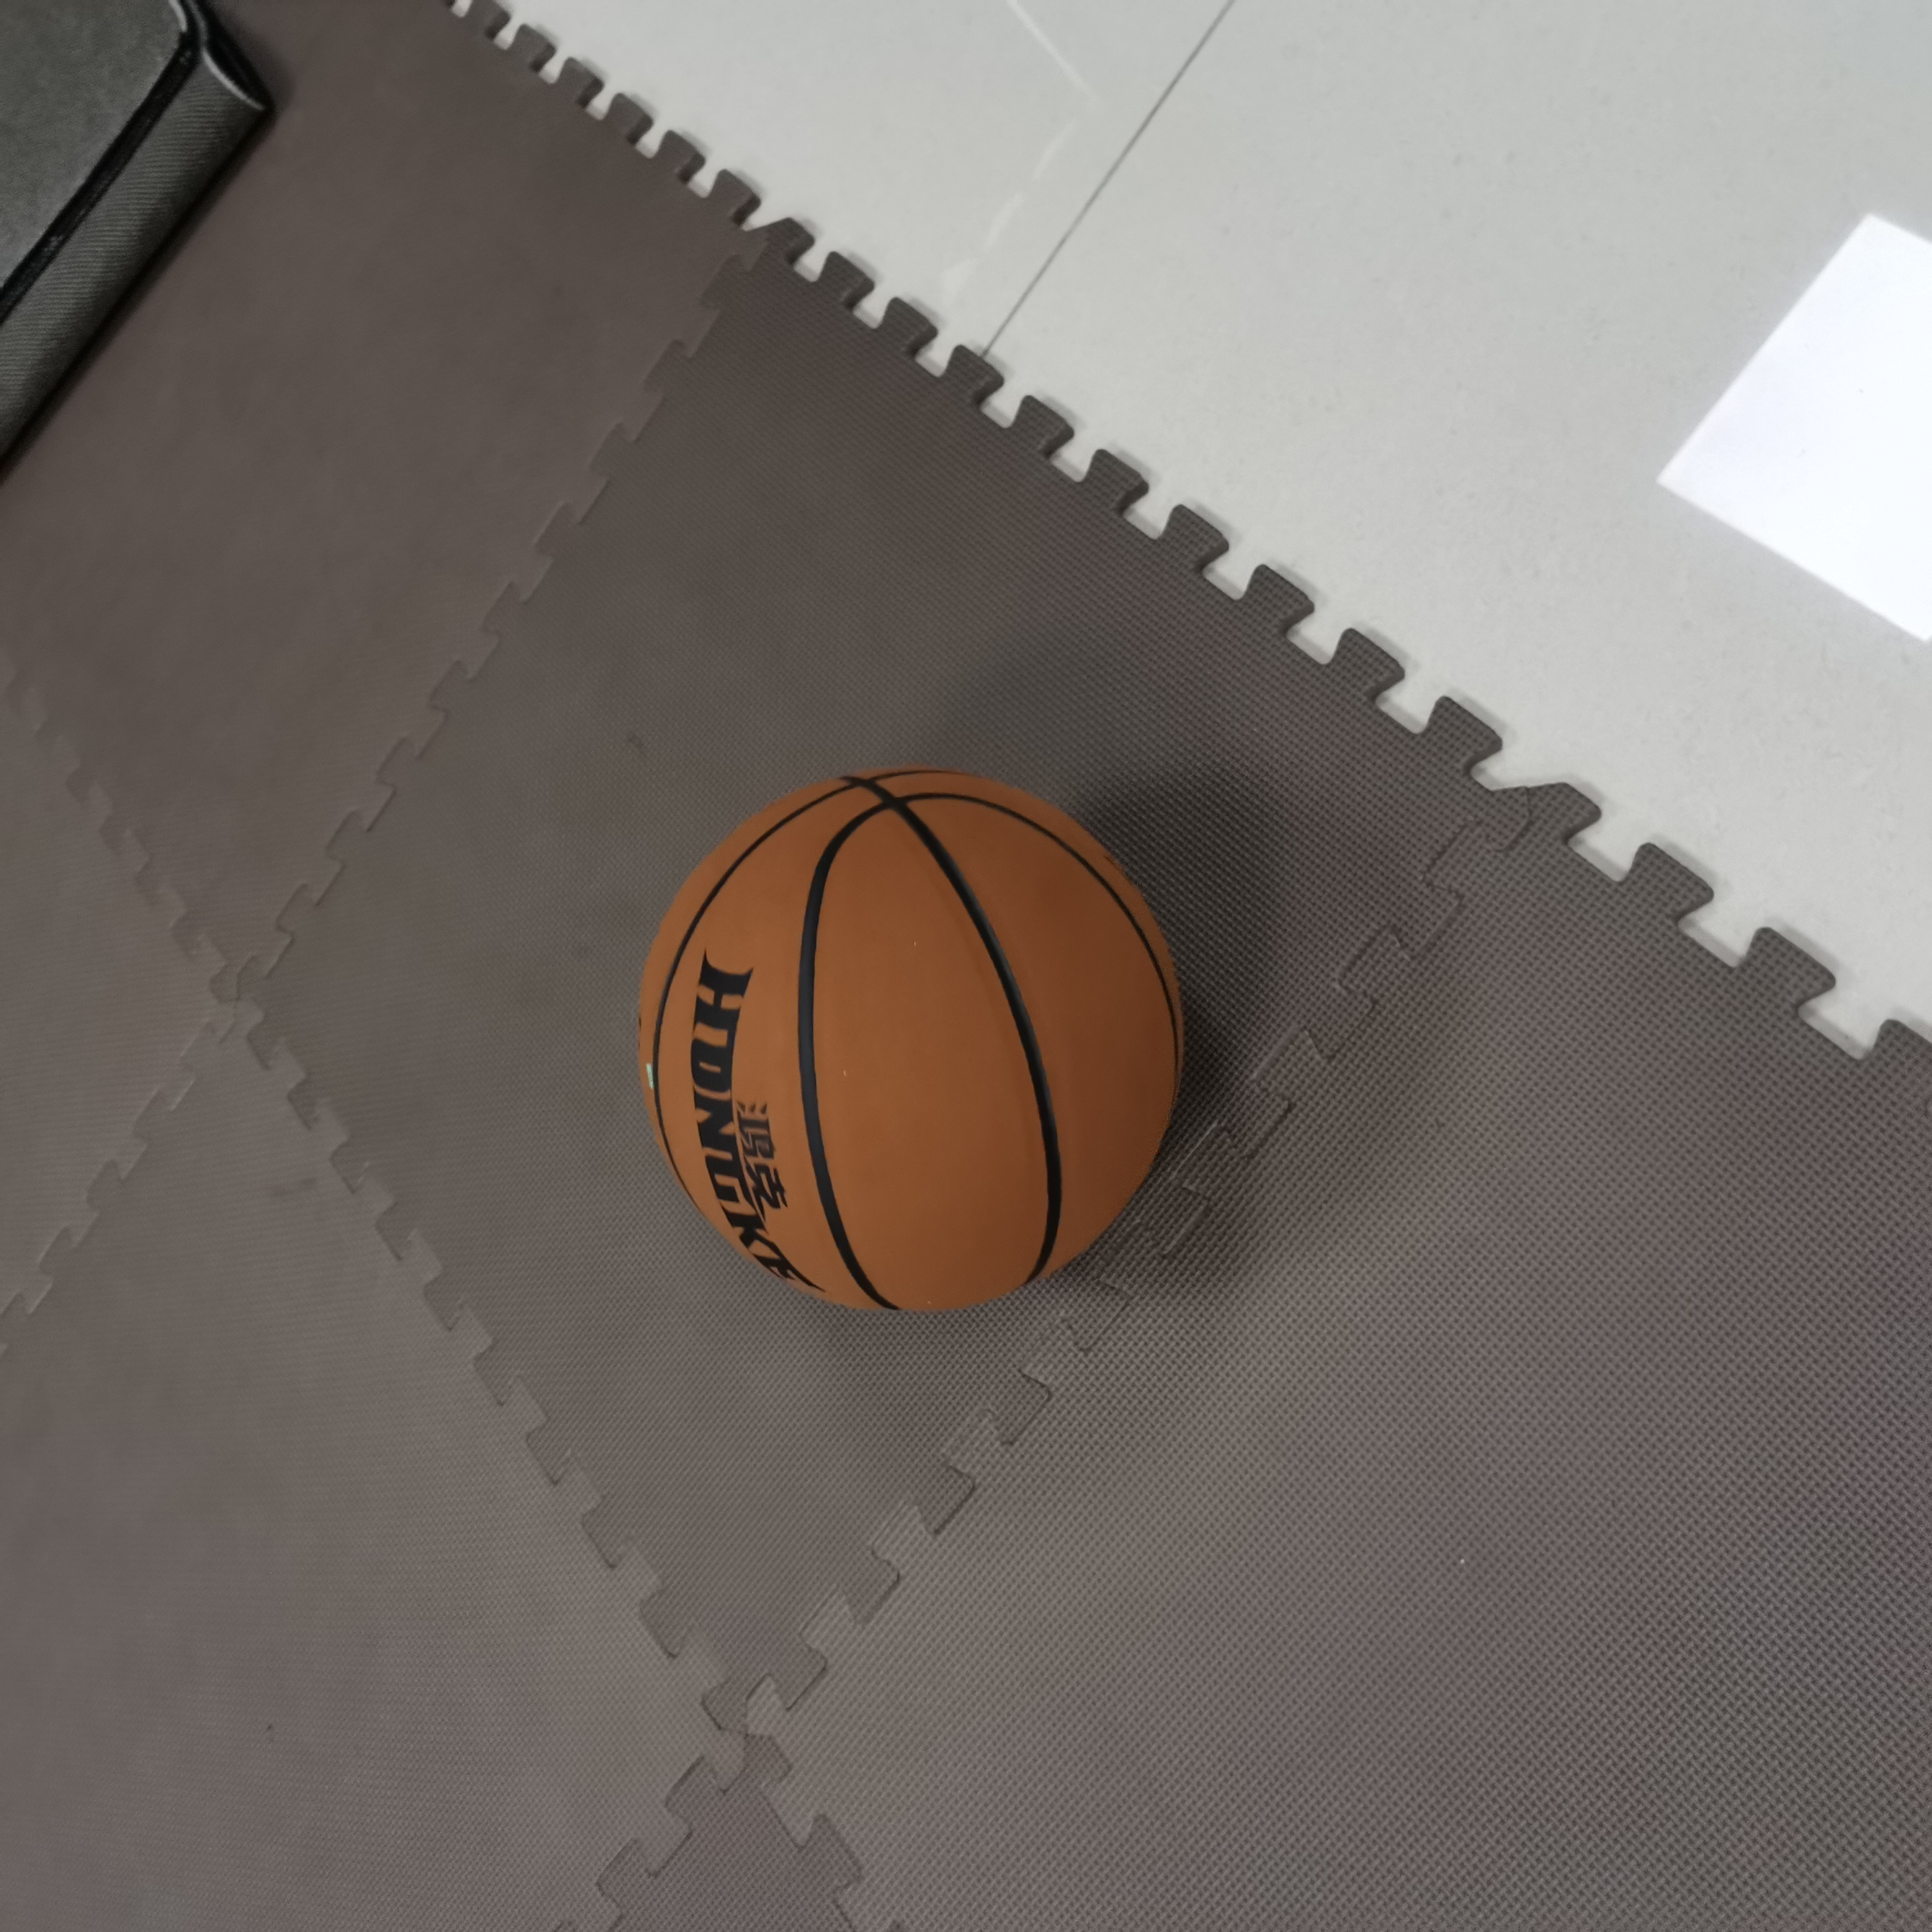basketball: (639, 770, 1184, 1316)
